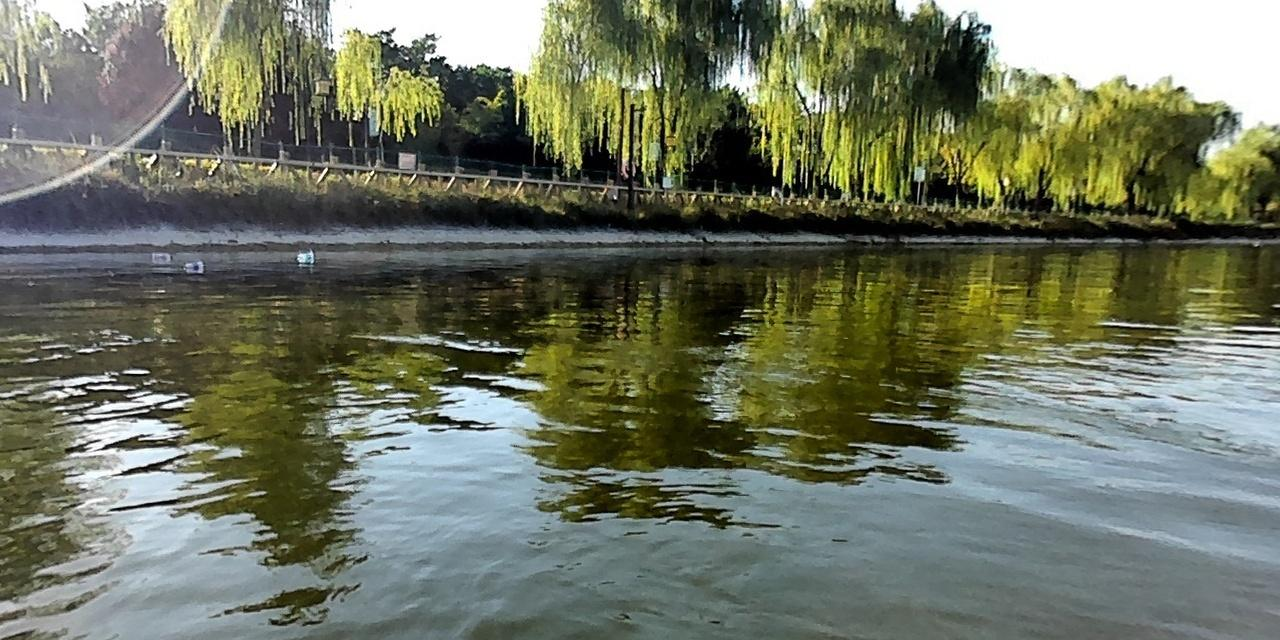bottle: (148, 249, 175, 260), (292, 248, 316, 259), (181, 259, 203, 270)
